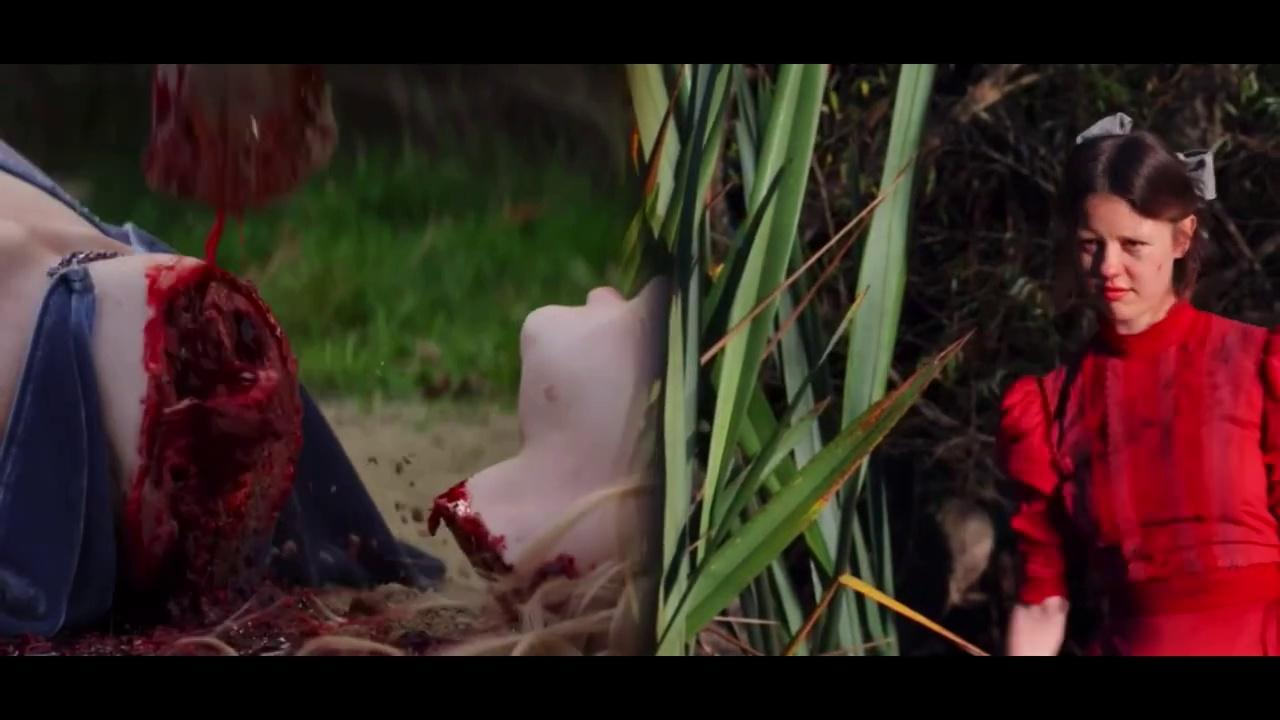Fire: (123, 64, 335, 592), (427, 480, 513, 580)
